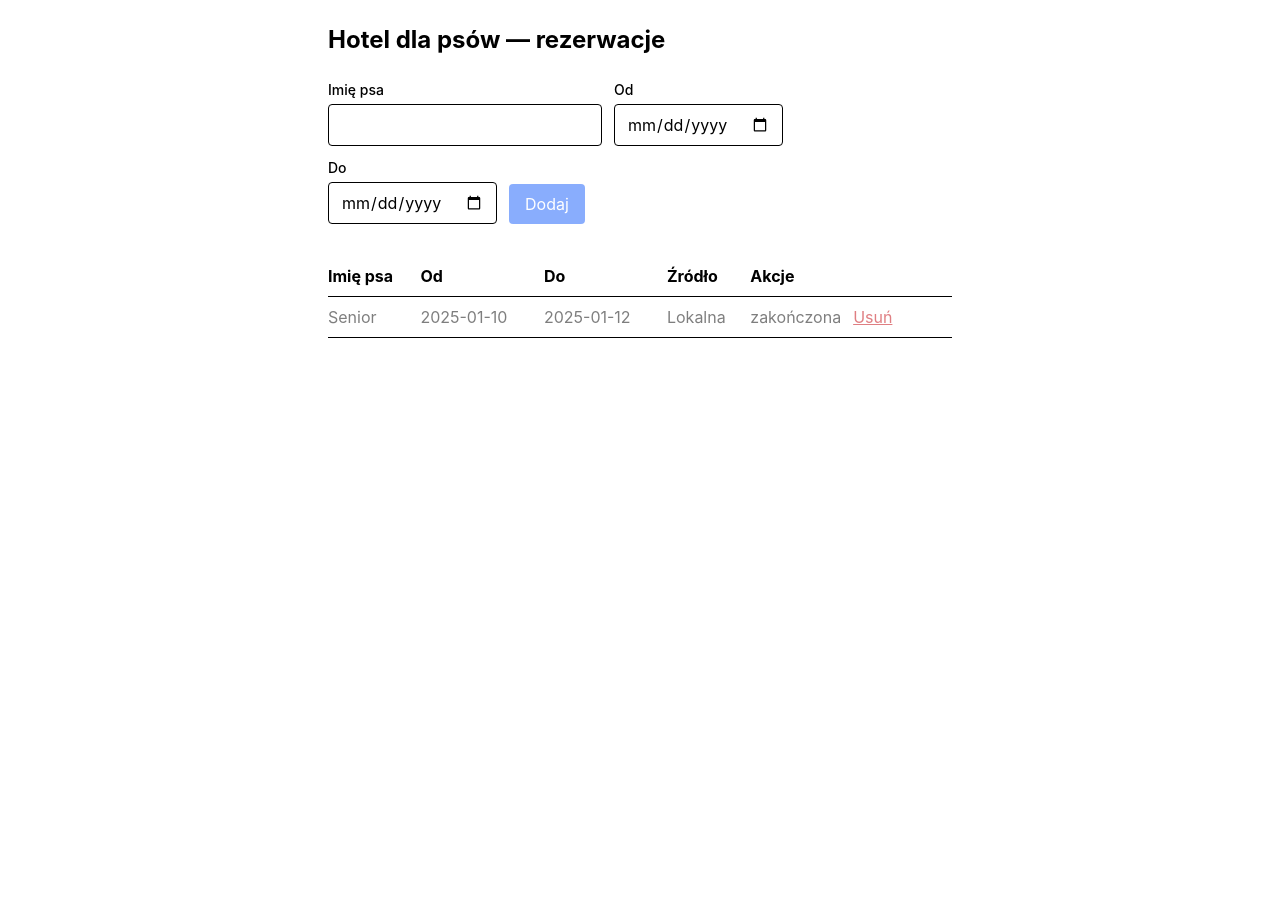
Test: Reservation list › deletes a past reservation through the same dialog workflow
Click the button with aria-label "Usuń rezerwację dla Senior" at [873, 317], box [853, 305, 892, 329]
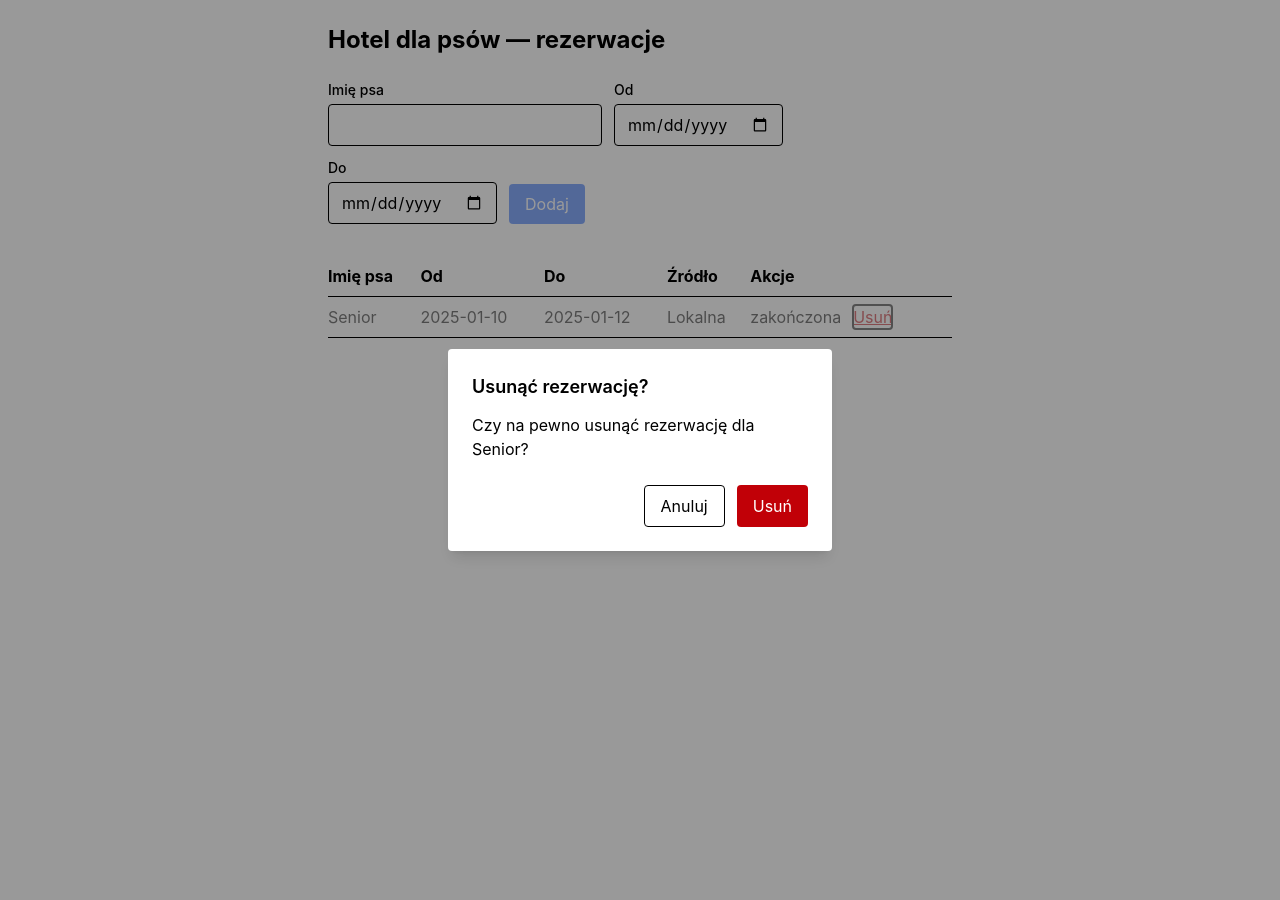
Expected: the dialog "Usunąć rezerwację" shows "Senior", [472, 415, 754, 459]
Click the button "Usuń" at [772, 506], box [737, 485, 808, 527]
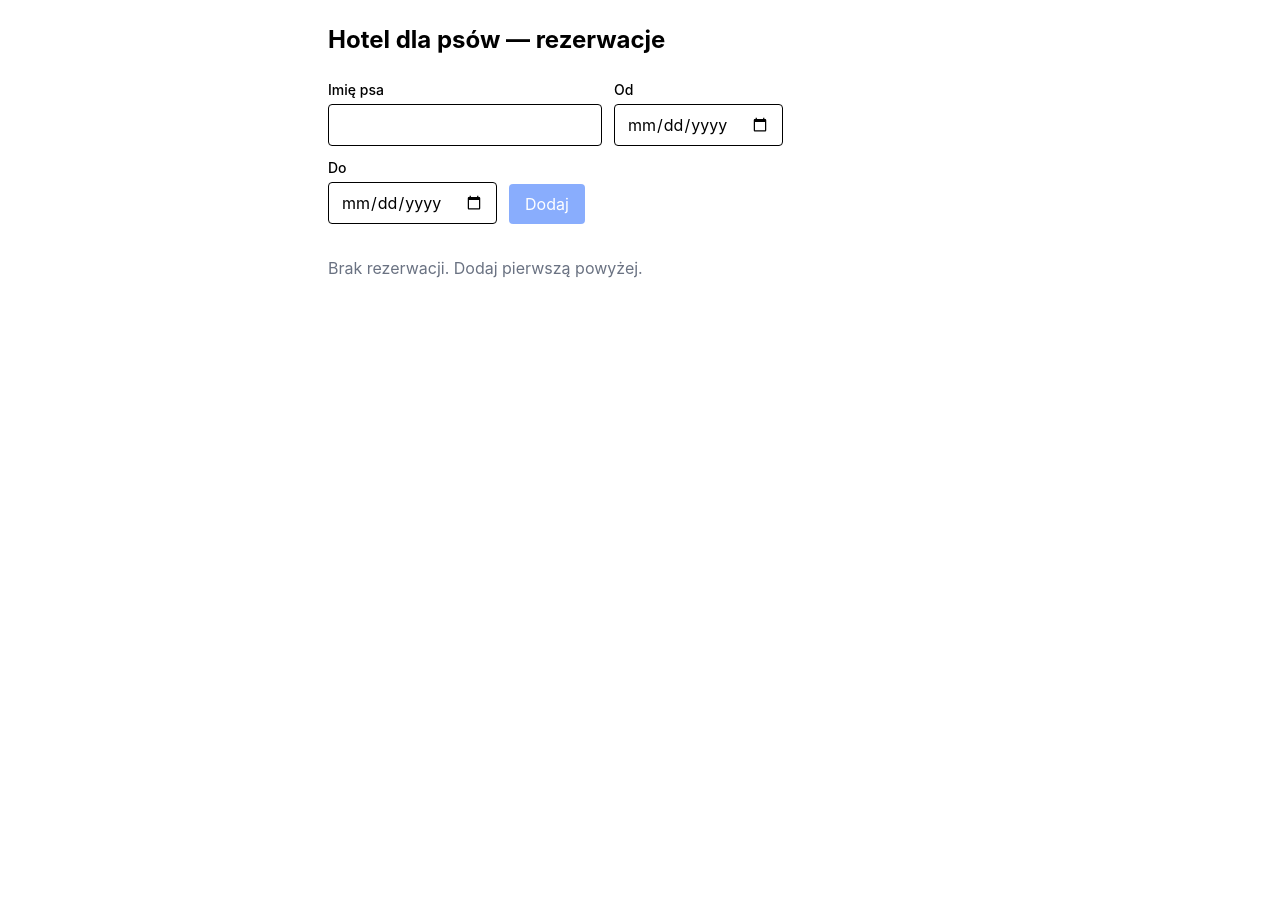
Expected: the dialog is gone
